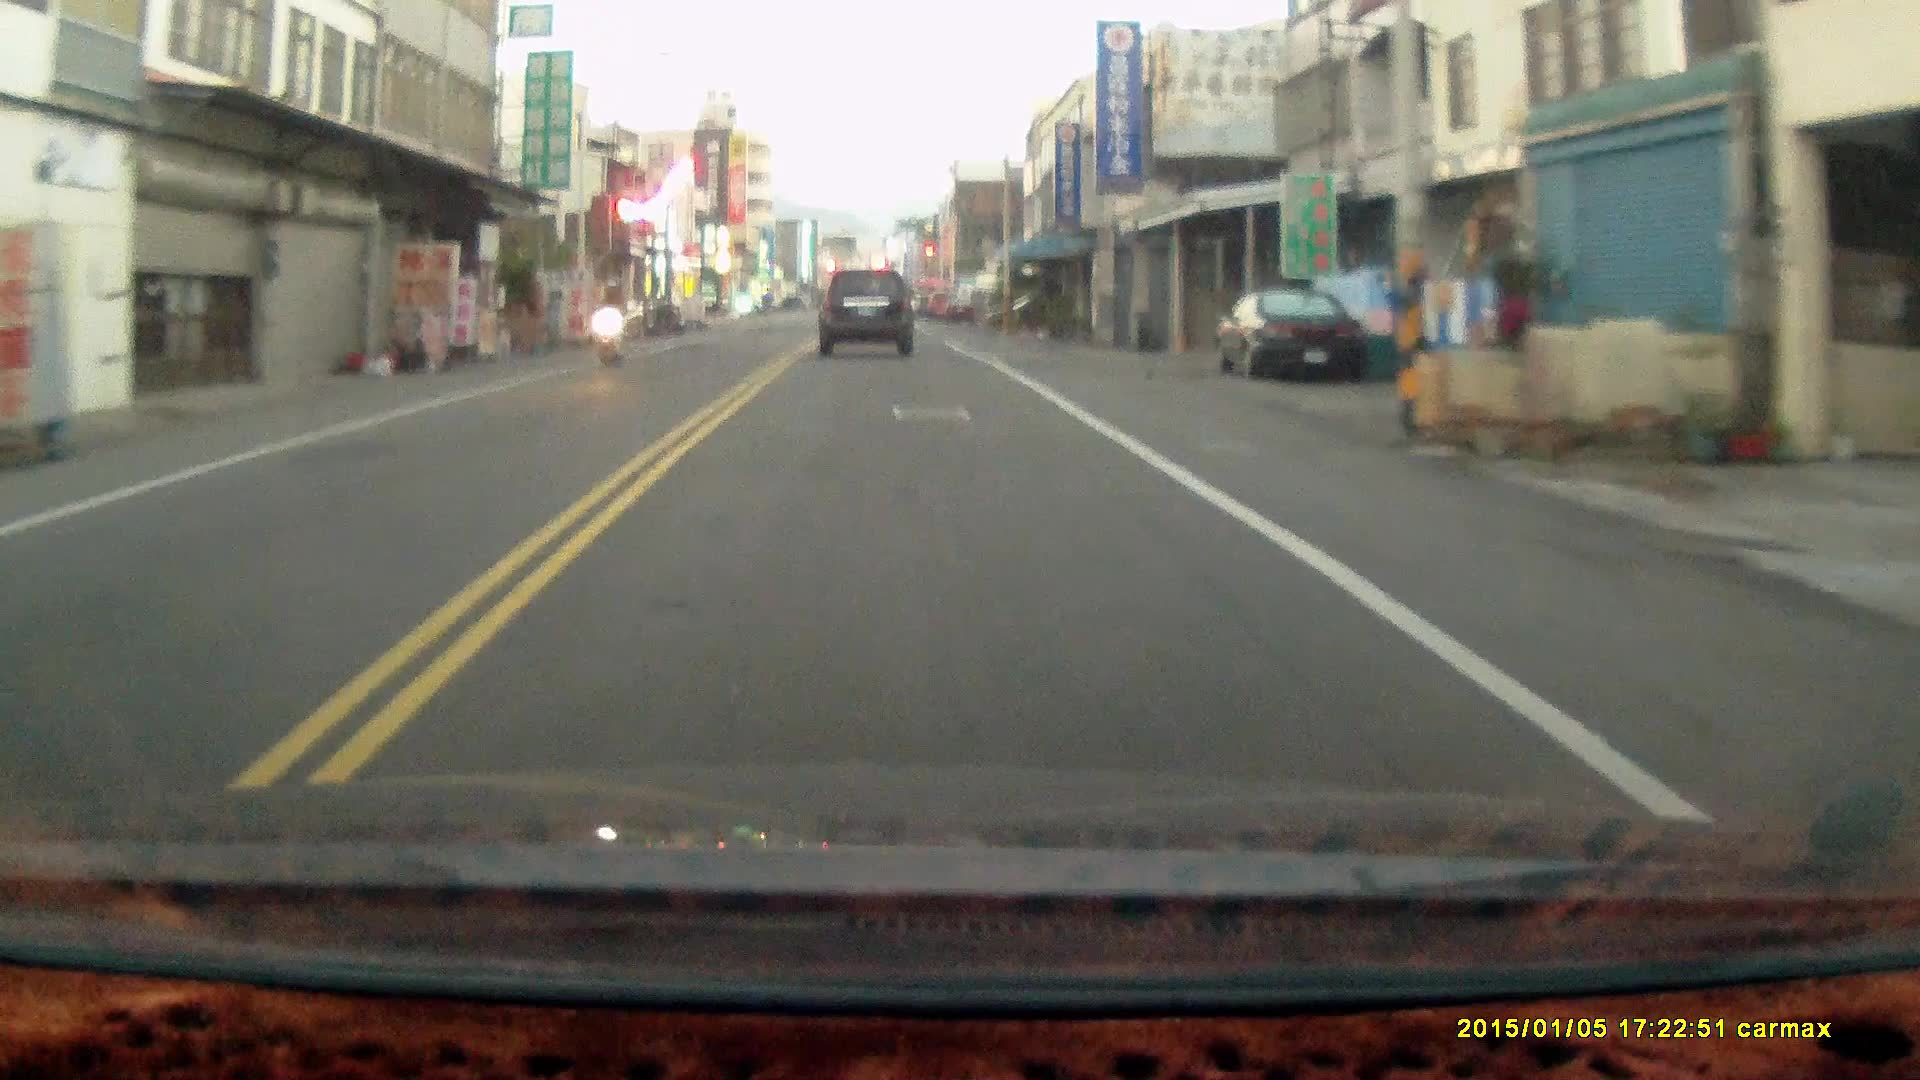rider: (589, 279, 629, 371)
vehicle: (1216, 291, 1371, 389), (819, 272, 917, 361)
